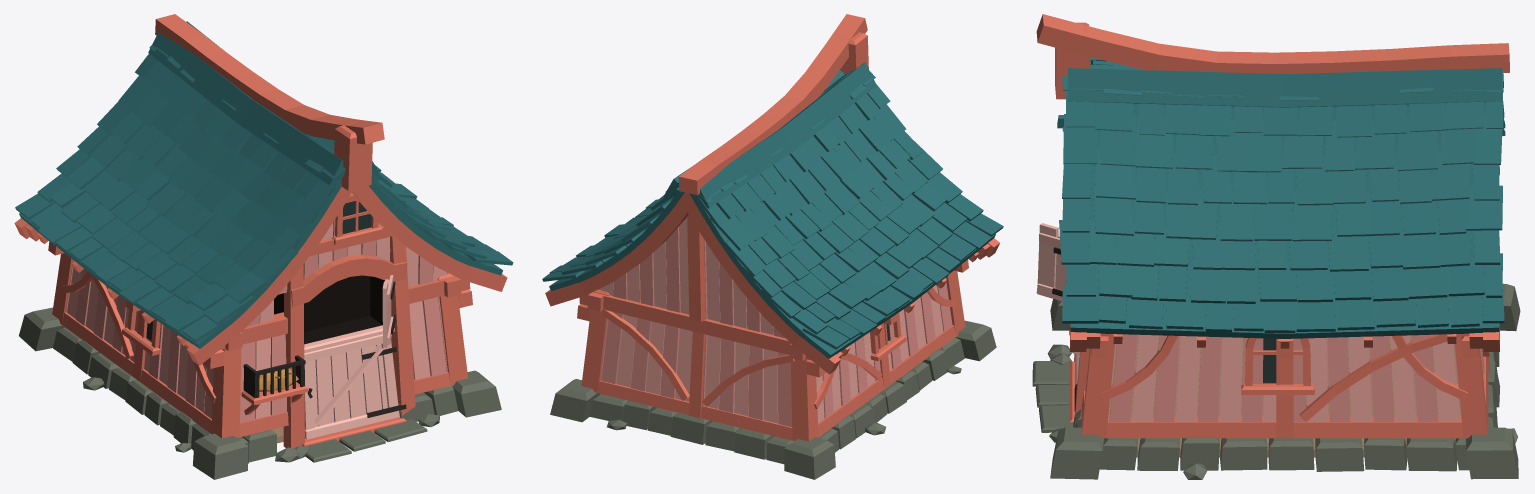
3 renders of one model, left to right at view 1: azimuth 30°, elevation 25°; view 2: azimuth 150°, elevation 25°; view 3: azimuth 270°, elevation 25°, orthographic. The views are drawn at different scales.
Parts seen in each view (by area): view 1: roof_shingles, timber_frame, stone_footing, roof_timbers, door, plank_walls_dark, plank_walls, interior_shadow, iron_fittings, window_frames, hay_rack, window_glass; view 2: roof_shingles, timber_frame, stone_footing, plank_walls_dark, roof_timbers, plank_walls, window_frames; view 3: roof_shingles, stone_footing, timber_frame, roof_timbers, plank_walls_dark, plank_walls, window_frames, door, floor, window_glass.
Part boxes in pixels (left/top/right/bottom): roof_shingles: left=15, top=21, right=513, bottom=348; timber_frame: left=25, top=224, right=472, bottom=448; stone_footing: left=19, top=307, right=501, bottom=479; roof_timbers: left=14, top=14, right=507, bottom=365; door: left=304, top=275, right=399, bottom=439; plank_walls_dark: left=65, top=219, right=446, bottom=422; plank_walls: left=67, top=193, right=449, bottom=418; interior_shadow: left=274, top=275, right=384, bottom=344; iron_fittings: left=243, top=281, right=406, bottom=417; window_frames: left=121, top=193, right=382, bottom=355; hay_rack: left=241, top=382, right=308, bottom=414; window_glass: left=146, top=201, right=371, bottom=340; roof_shingles: left=542, top=62, right=1003, bottom=358; timber_frame: left=577, top=214, right=990, bottom=441; stone_footing: left=550, top=320, right=996, bottom=479; plank_walls_dark: left=598, top=227, right=952, bottom=427; roof_timbers: left=545, top=14, right=999, bottom=374; plank_walls: left=600, top=217, right=952, bottom=423; window_frames: left=870, top=312, right=906, bottom=361; roof_shingles: left=1057, top=57, right=1505, bottom=338; stone_footing: left=1032, top=283, right=1520, bottom=479; timber_frame: left=1069, top=333, right=1489, bottom=438; roof_timbers: left=1036, top=14, right=1509, bottom=351; plank_walls_dark: left=1109, top=334, right=1484, bottom=421; plank_walls: left=1108, top=334, right=1483, bottom=421; window_frames: left=1241, top=338, right=1314, bottom=394; door: left=1036, top=223, right=1079, bottom=386; floor: left=1109, top=334, right=1460, bottom=457; window_glass: left=1263, top=338, right=1276, bottom=383.
Size of the model in its own units: 6.55 by 6.19 by 7.17.
